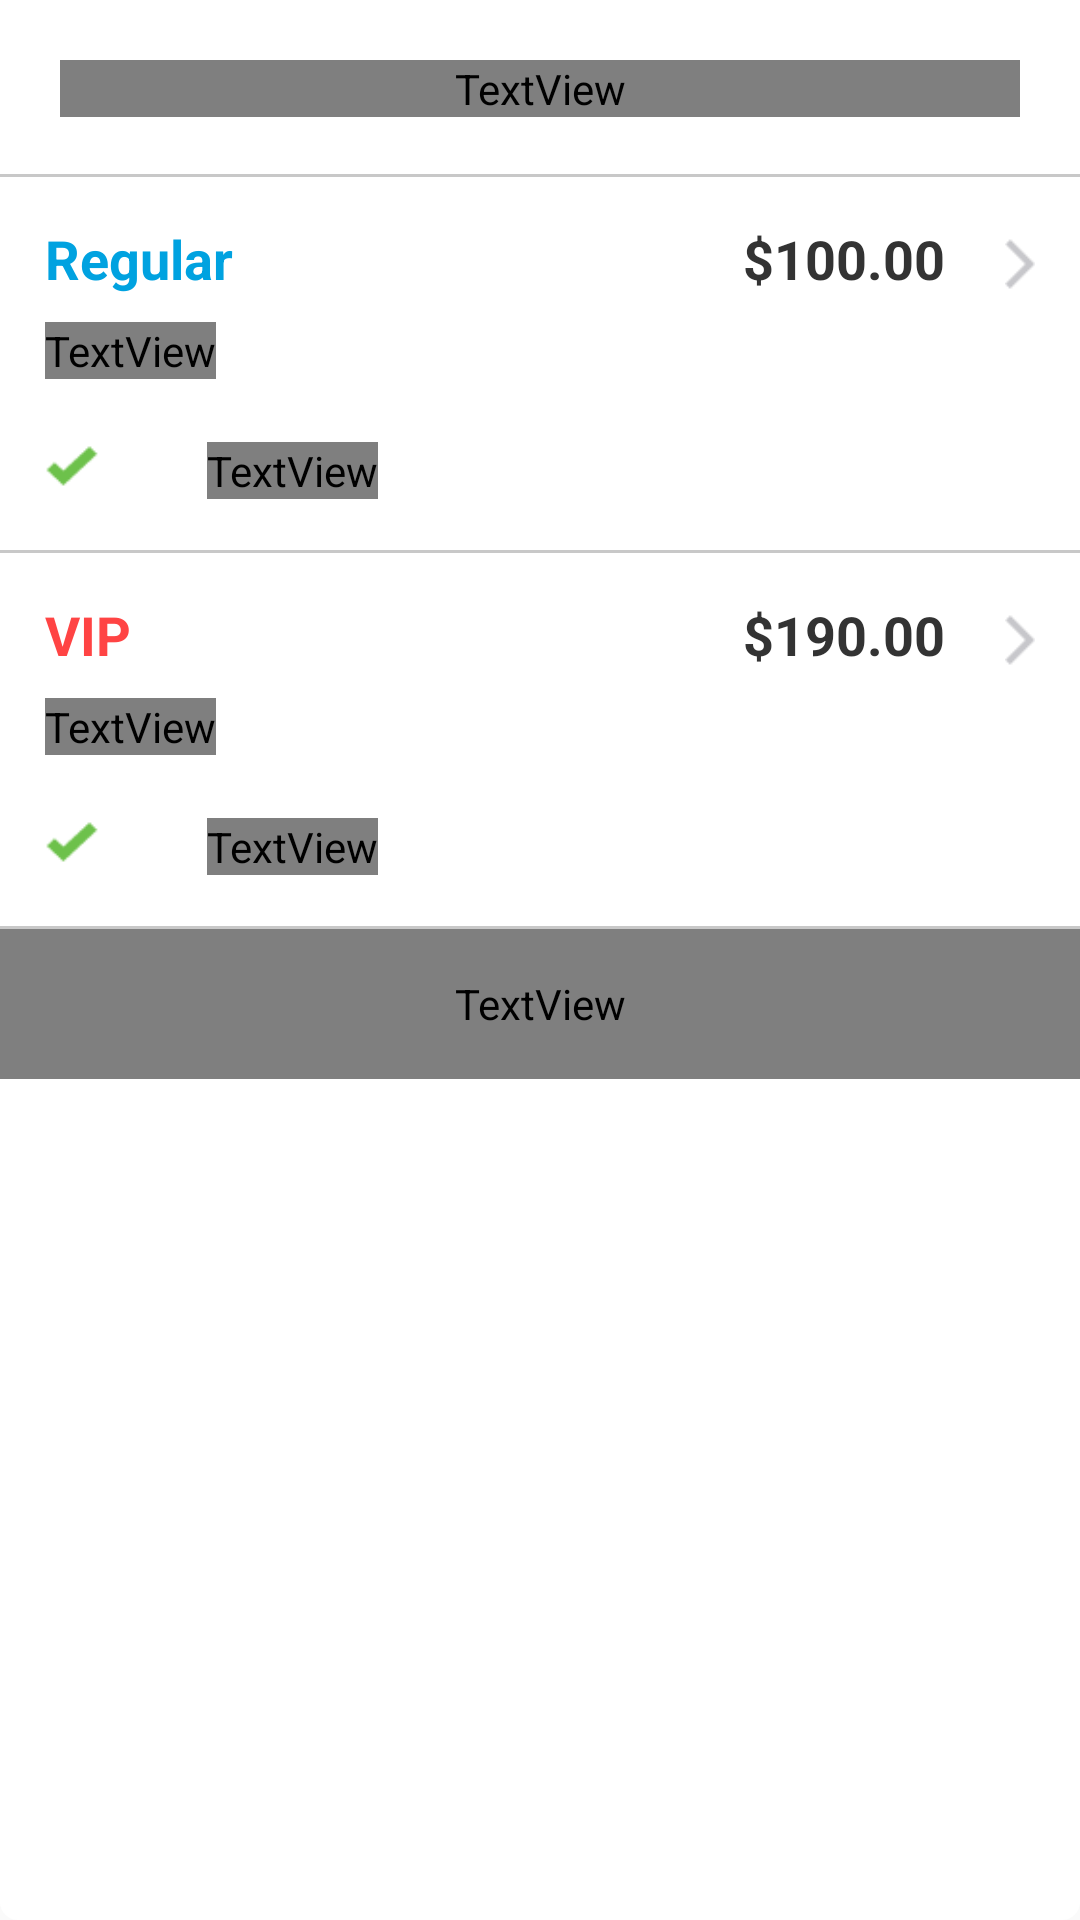

Icon bounding boxes for this 1080 × 1920 phone screenshot, format (x1, y1, x2, y2):
check: (46, 446, 98, 486), (46, 822, 98, 862)
disclosure arrow: (1005, 240, 1034, 288), (1005, 616, 1034, 664)
